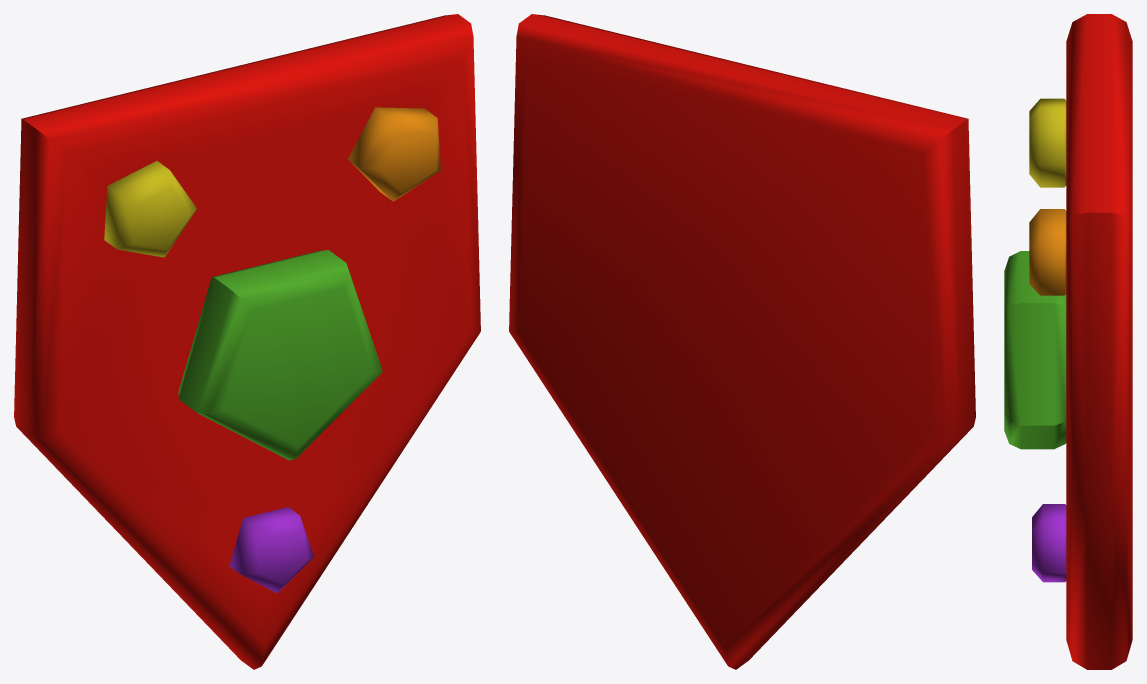
File: Gummy_Shield.glb
The picture shows the model from 3 angles, left to right: view 1: azimuth 30°, elevation 25°; view 2: azimuth 150°, elevation 25°; view 3: azimuth 270°, elevation 25°; orthographic projection. The views are drawn at different scales.
Parts seen in each view (by area): view 1: Gummy_Shield; view 2: Gummy_Shield; view 3: Gummy_Shield.
Boxes of the visible parts, <box> form: Gummy_Shield: <box>14,14,480,669</box>; Gummy_Shield: <box>509,14,975,669</box>; Gummy_Shield: <box>1004,14,1132,669</box>.
Size of the model in its own units: 0.88 by 1.11 by 0.232.
